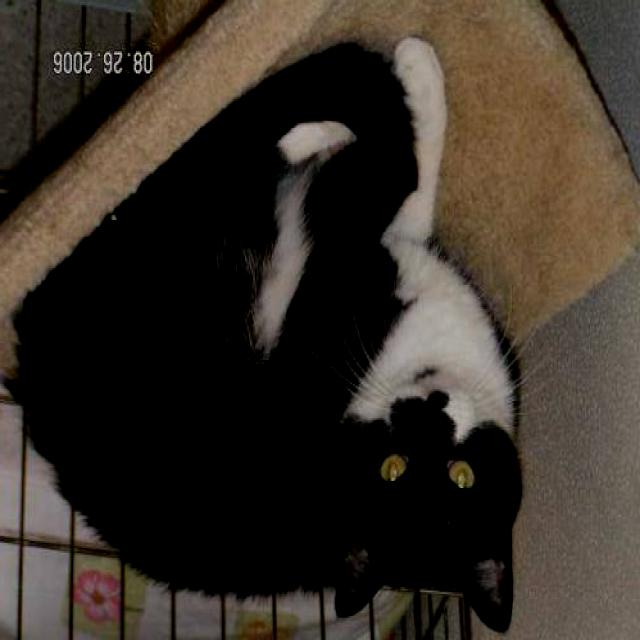Kucing: (6, 73, 588, 640)
